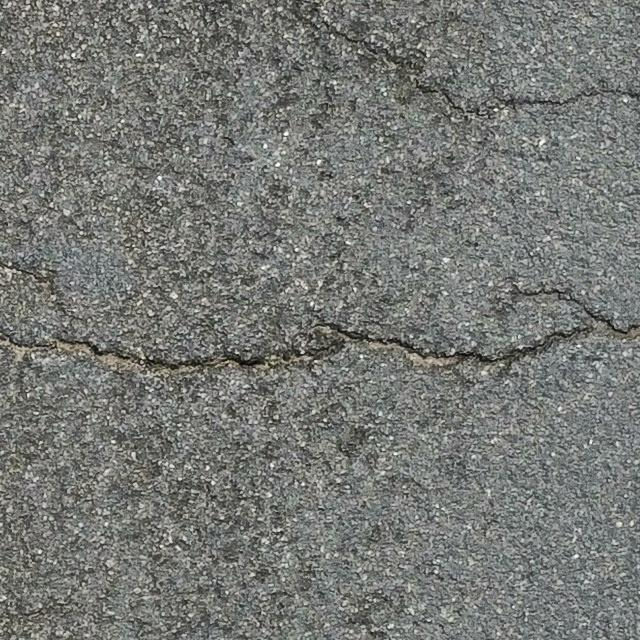TransverseCrack: (2, 264, 640, 380), (321, 25, 640, 119)
